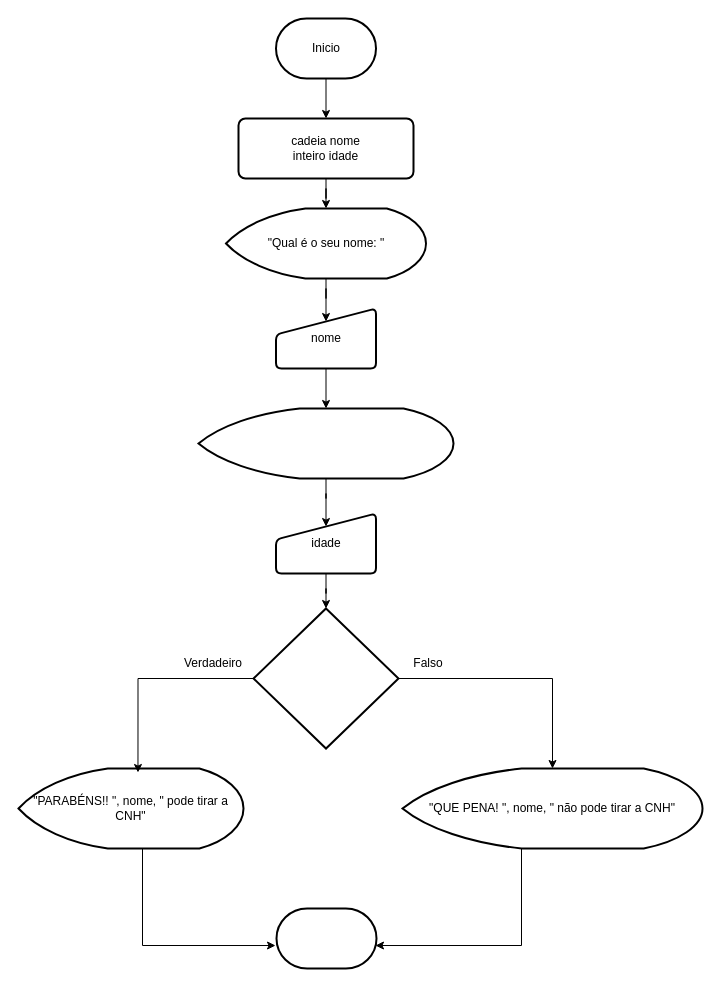
The diagram is 720 pixels wide and 986 high, and some of its shapes have lost their labels. Each missing label, with the centre of its shape:
"Qual é a sua idade: ": pixel 325 443
Fim: pixel 326 938
idade >= 18: pixel 325 678
